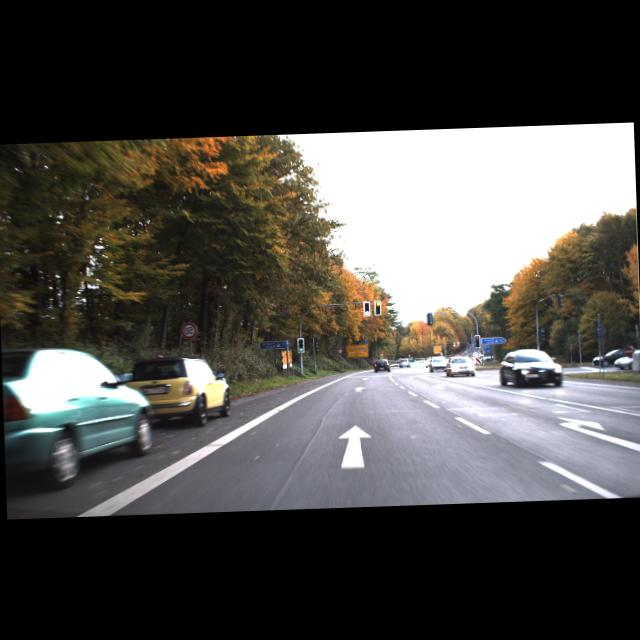prohibitory: (180, 321, 198, 338)
